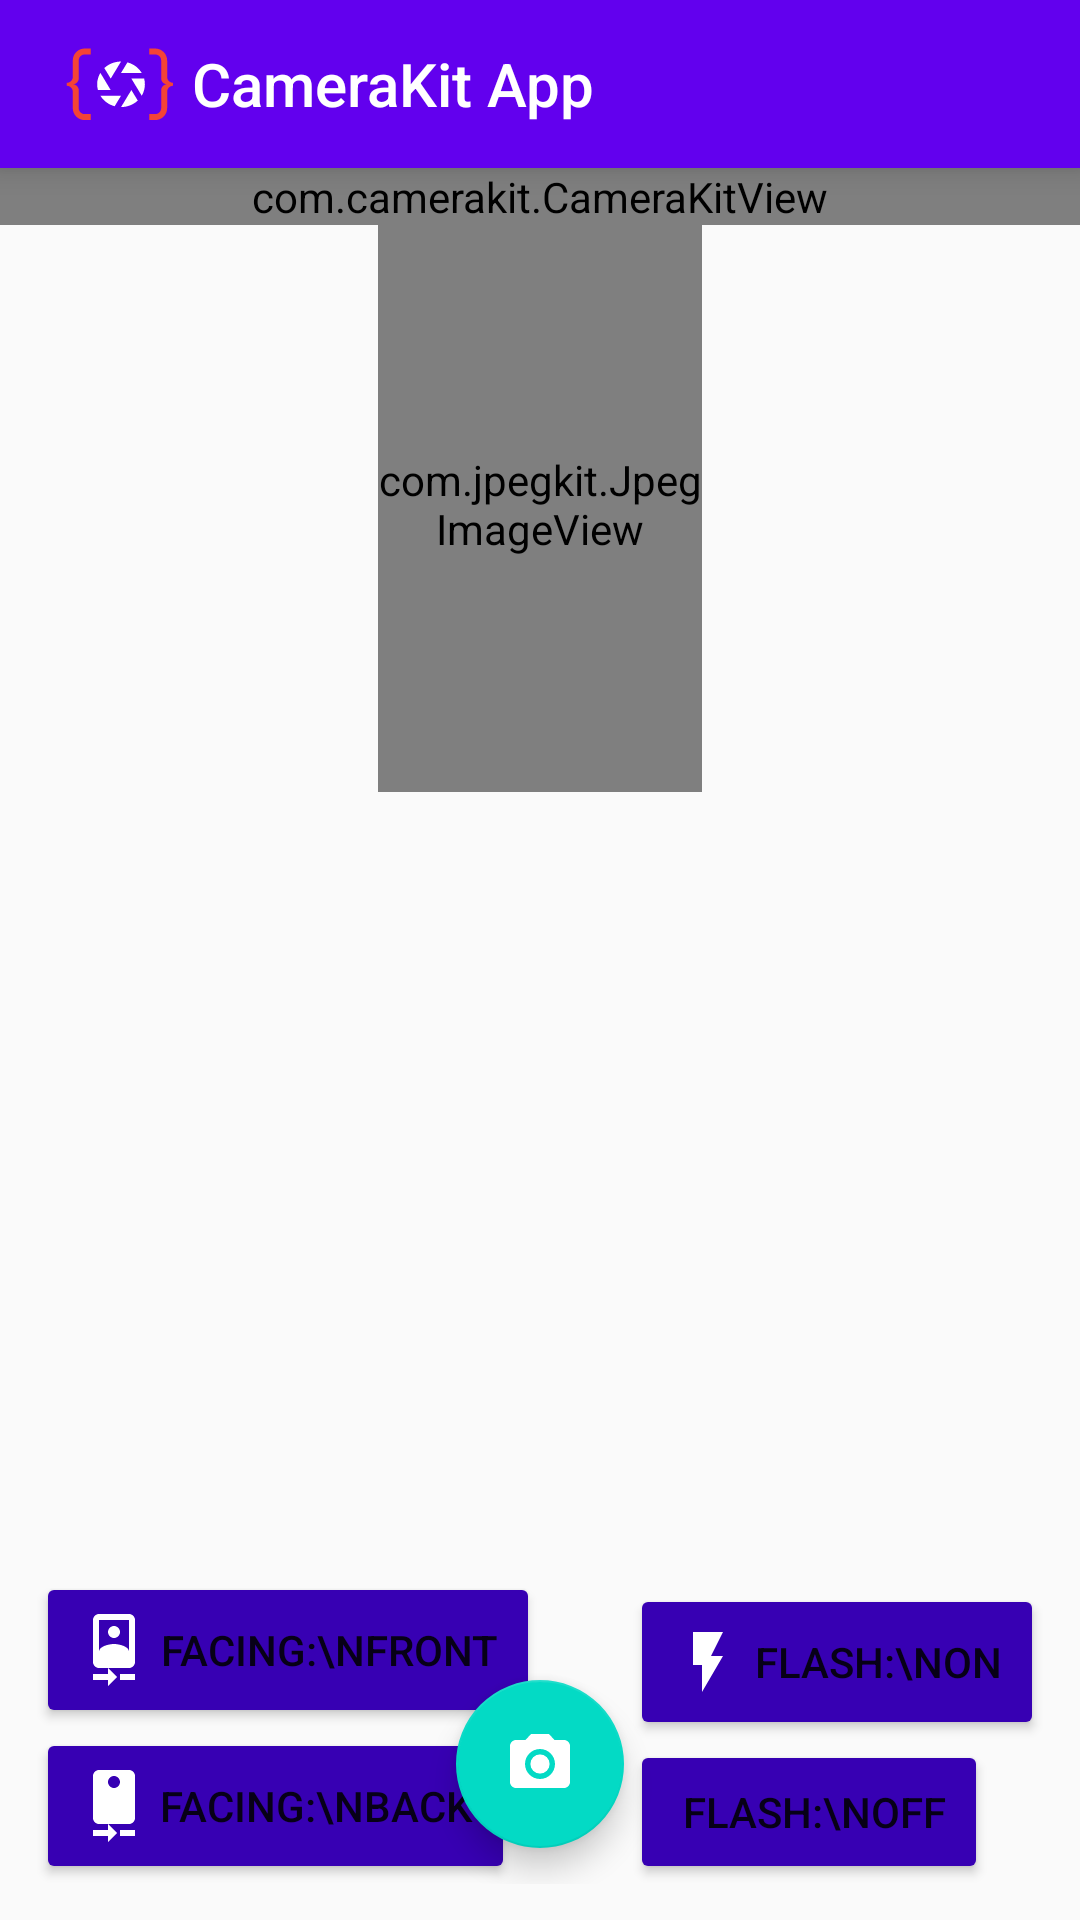

Where to tap for icons on this 1080 x 1920 app screen, as (x,y):
photo: (540,1764)
